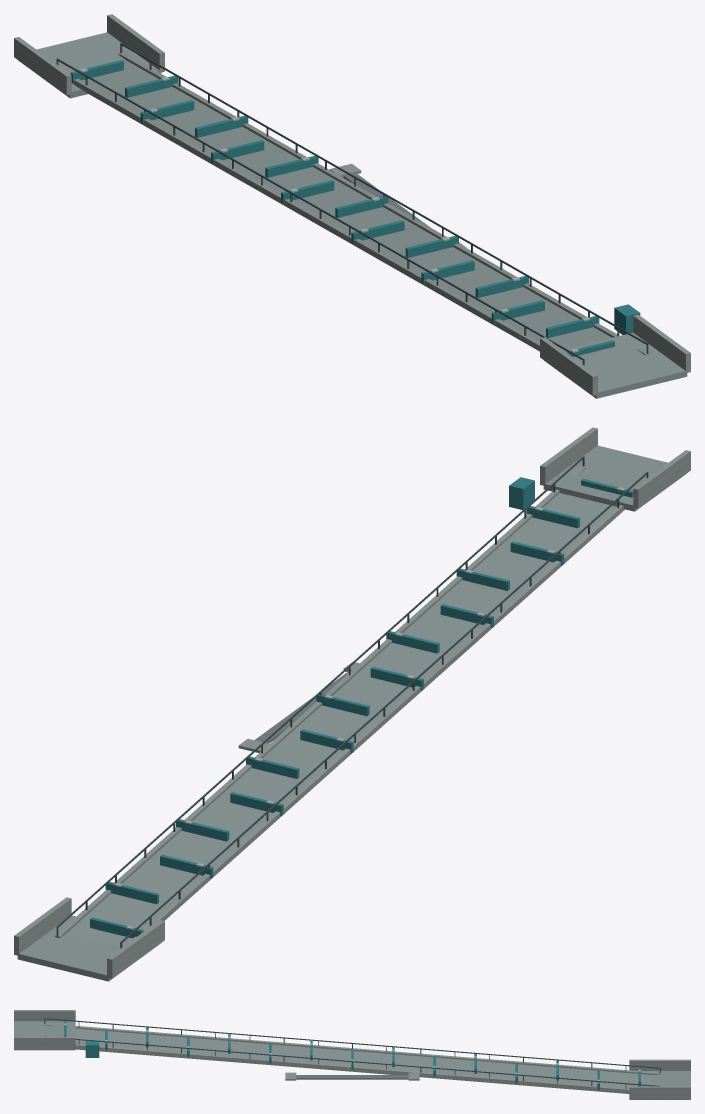
File: FishPassage_Upgrade_LOD0.glb
The picture shows the model from 3 angles, top to bottom: view 1: azimuth 30°, elevation 25°; view 2: azimuth 150°, elevation 25°; view 3: azimuth 270°, elevation 25°; orthographic projection. The views are drawn at different scales.
Visible parts, largest first — view 1: FishPassage_Upgrade_LOD0; view 2: FishPassage_Upgrade_LOD0; view 3: FishPassage_Upgrade_LOD0.
Boxes of the visible parts, left/top/right/bottom form: FishPassage_Upgrade_LOD0: left=14, top=14, right=690, bottom=398; FishPassage_Upgrade_LOD0: left=14, top=427, right=690, bottom=981; FishPassage_Upgrade_LOD0: left=14, top=1010, right=690, bottom=1099.
Bounding box in the file's own units: 10.75 × 10.3 × 99.
6 materials, 1 textured.
